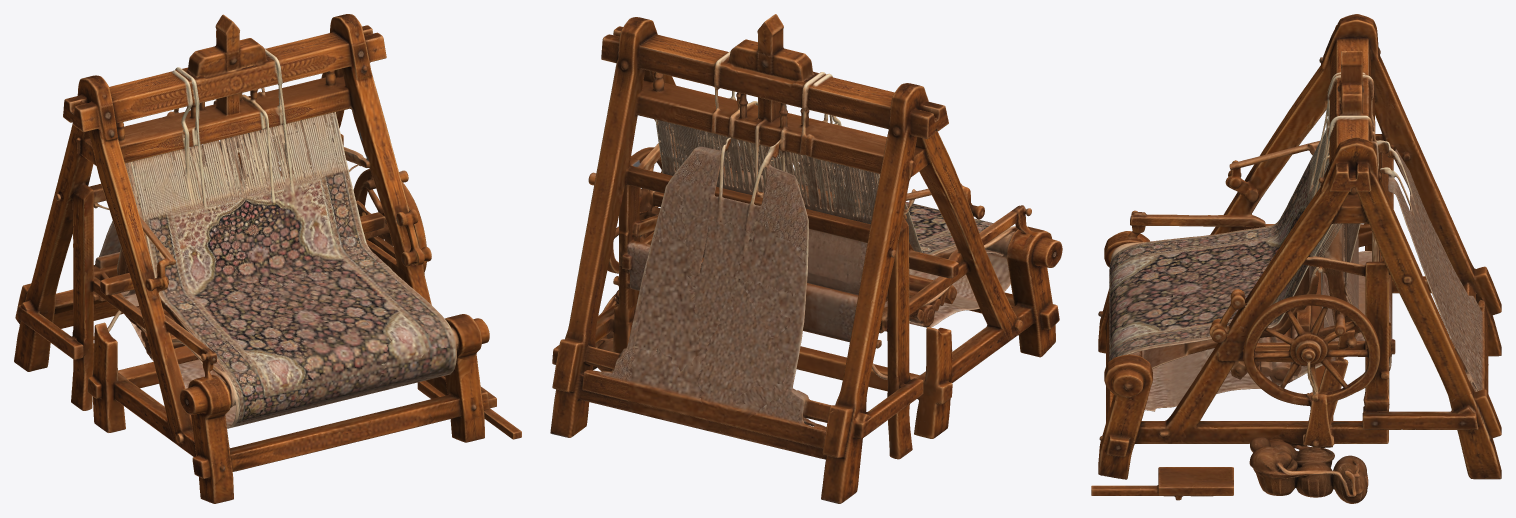
The model's file is cesmi_hali_tezga.glb.
The picture shows the model from 3 angles, left to right: view 1: azimuth 30°, elevation 25°; view 2: azimuth 150°, elevation 25°; view 3: azimuth 270°, elevation 25°; orthographic projection. The views are drawn at different scales.
Size of the model in its own units: 1.81 by 1.88 by 1.89.
Materials: 1 (1 with a texture image).
